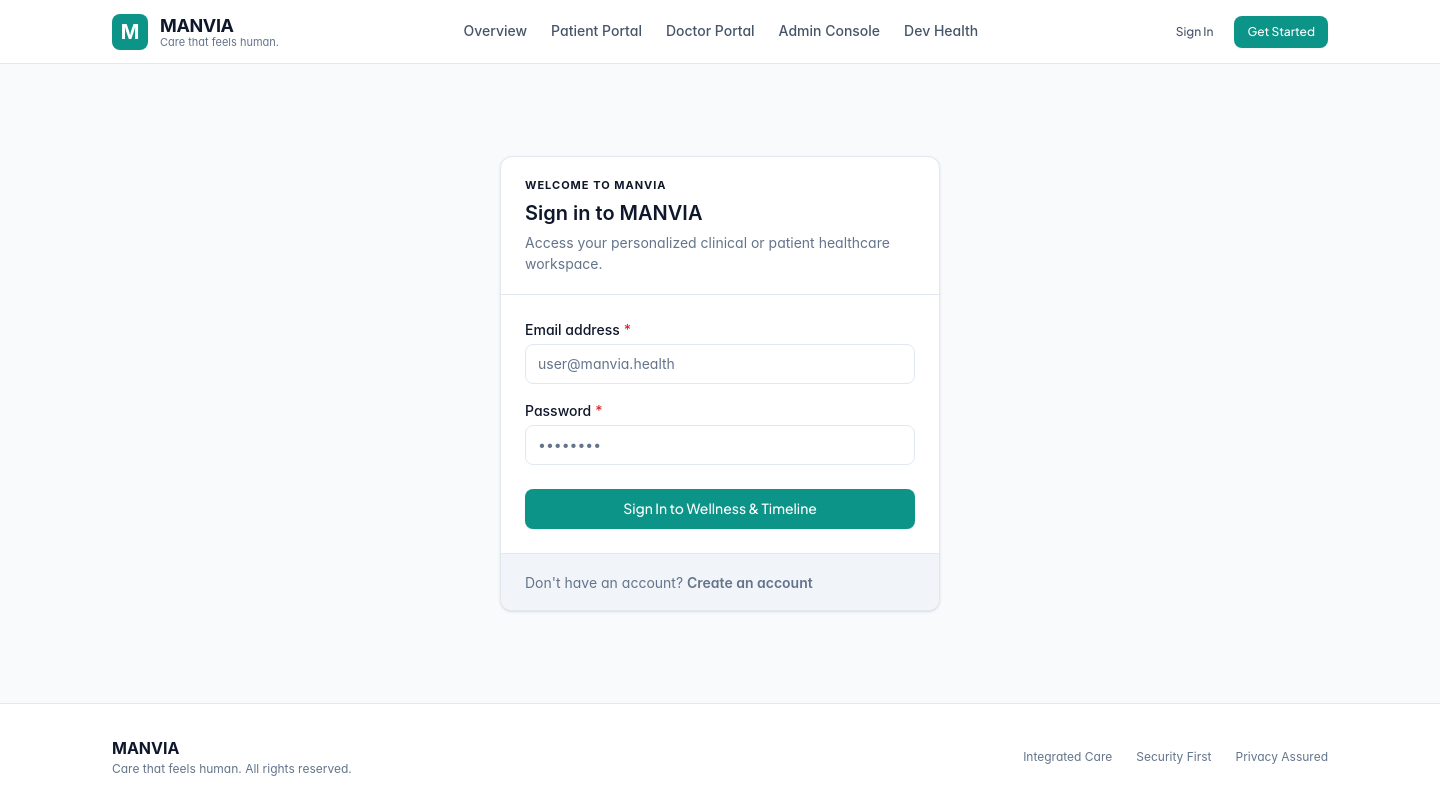
Test: MANVIA Login View Component › shows client-side validation errors when submitting blank inputs
The image size is (1440, 810).
Step 1. Click the button with test id "login-submit-button" → (720, 509), box 525,489 -> 915,529
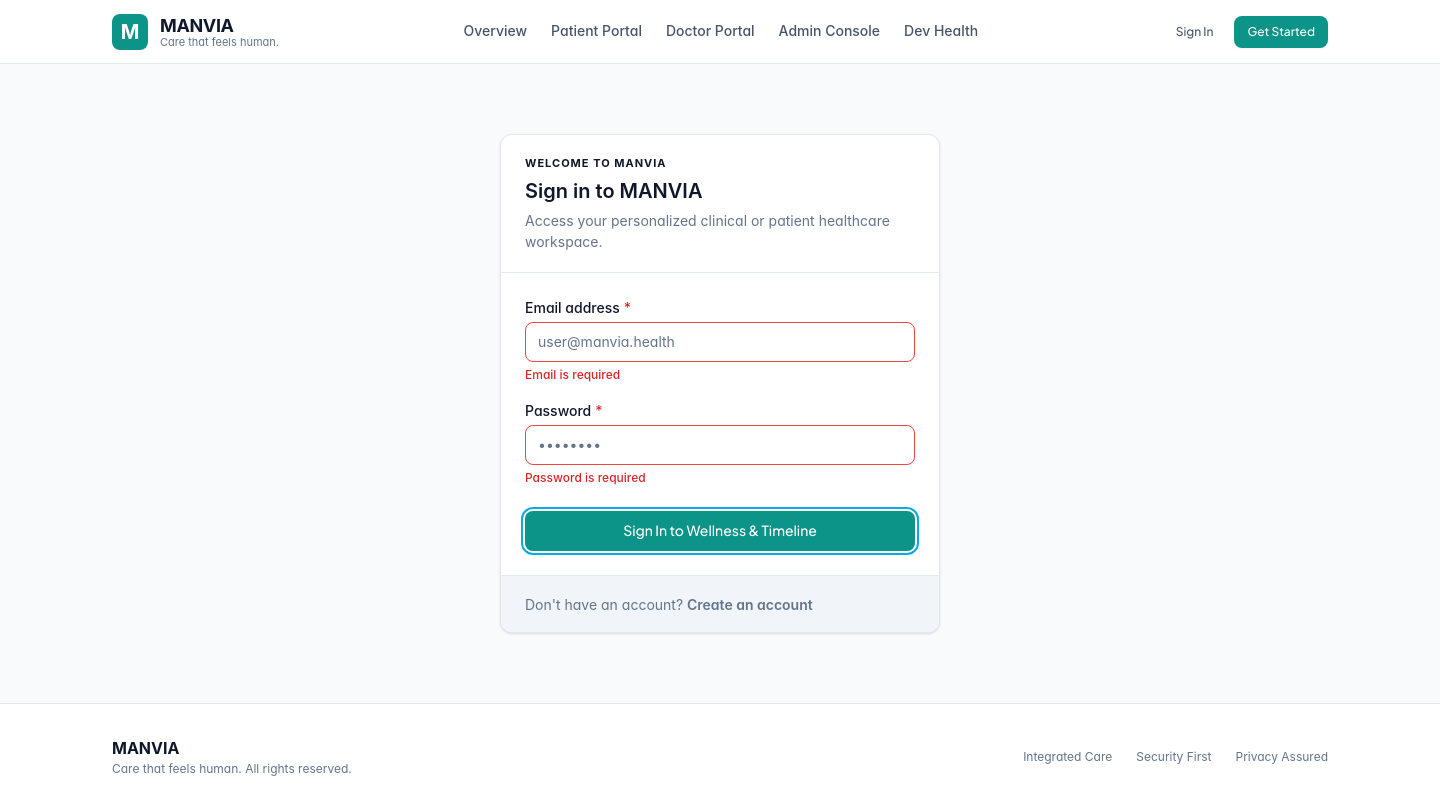
expect the text "Email is required" is shown: met, box 525,367 -> 620,382
expect the text "Password is required" is shown: met, box 525,470 -> 646,485
